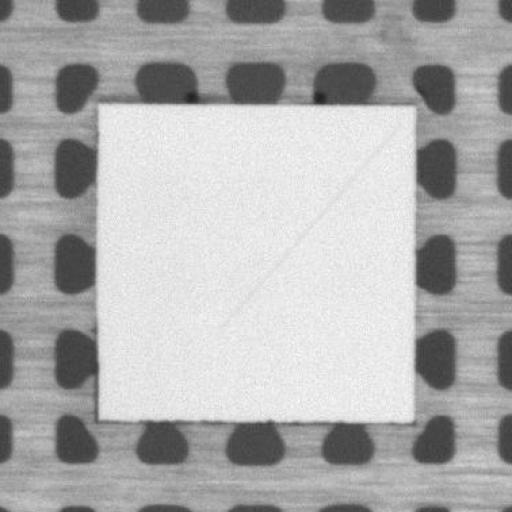DIE_CRACK: (222, 123, 398, 325)
